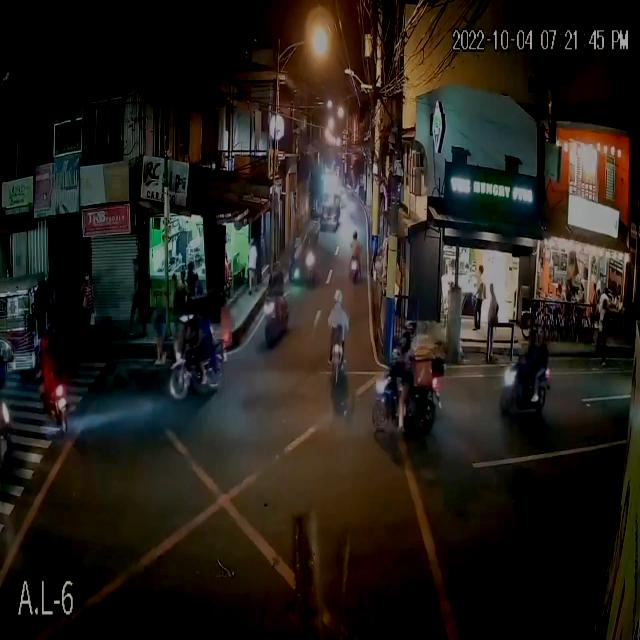Full-Faced: (398, 334, 412, 356), (332, 287, 346, 307), (405, 317, 417, 338), (350, 230, 360, 248), (527, 328, 536, 348)
